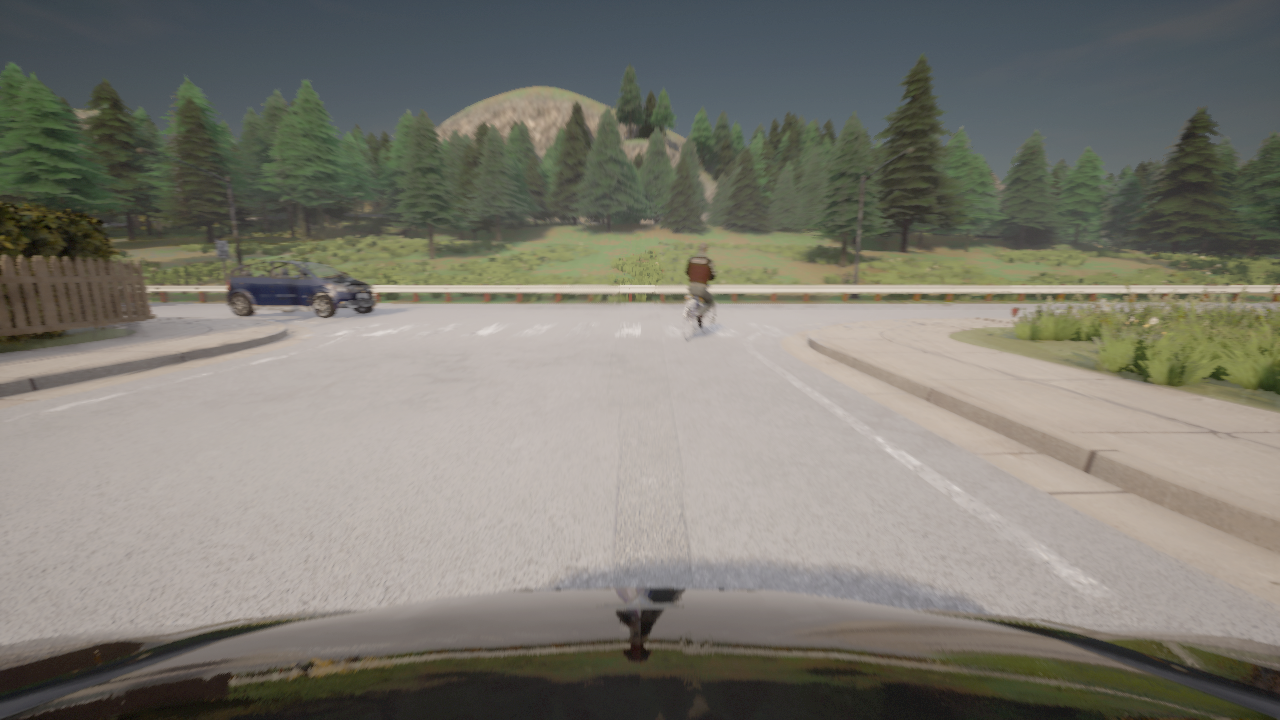cyclist: (0, 588, 1279, 719), (226, 260, 375, 318), (683, 284, 714, 341)
